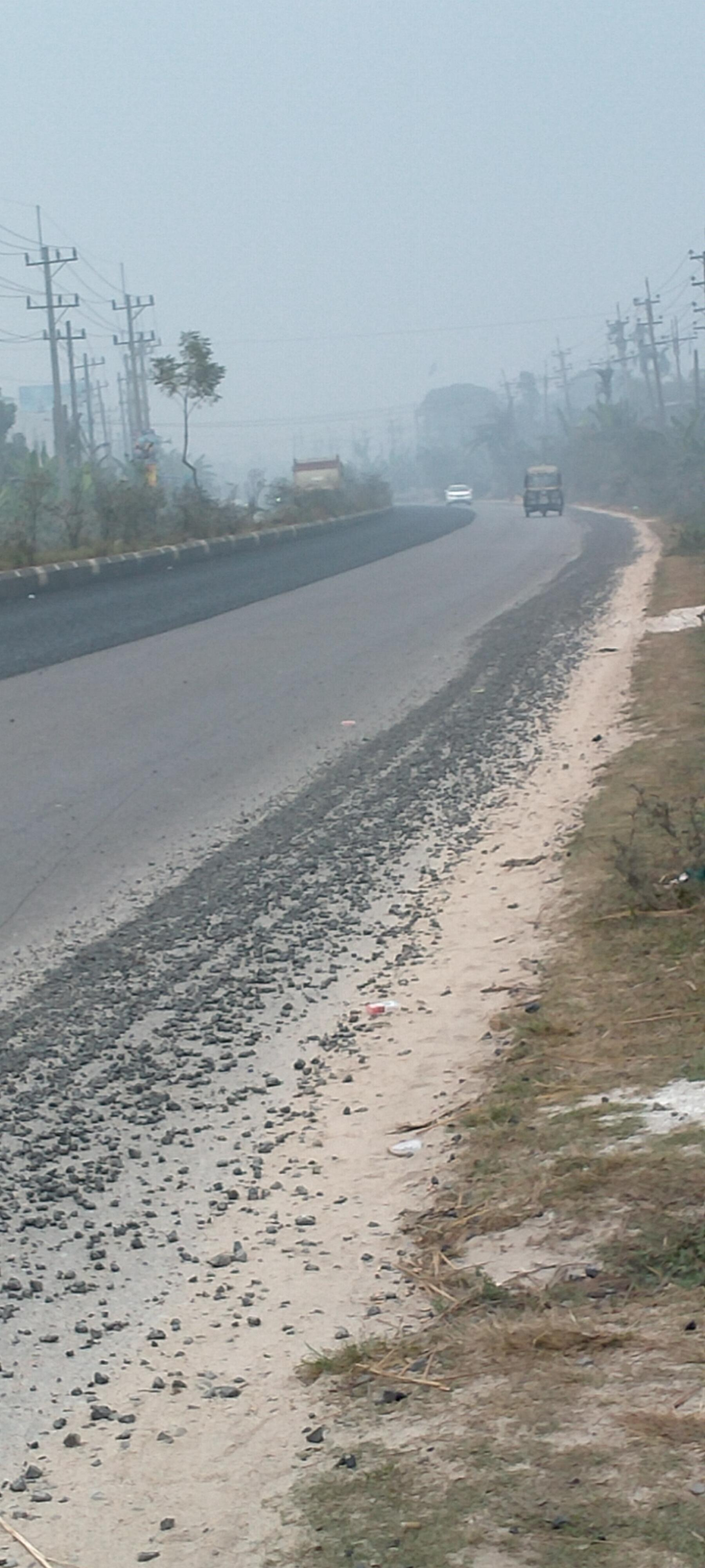Car: (439, 468, 481, 513)
Truck: (286, 451, 362, 510)
